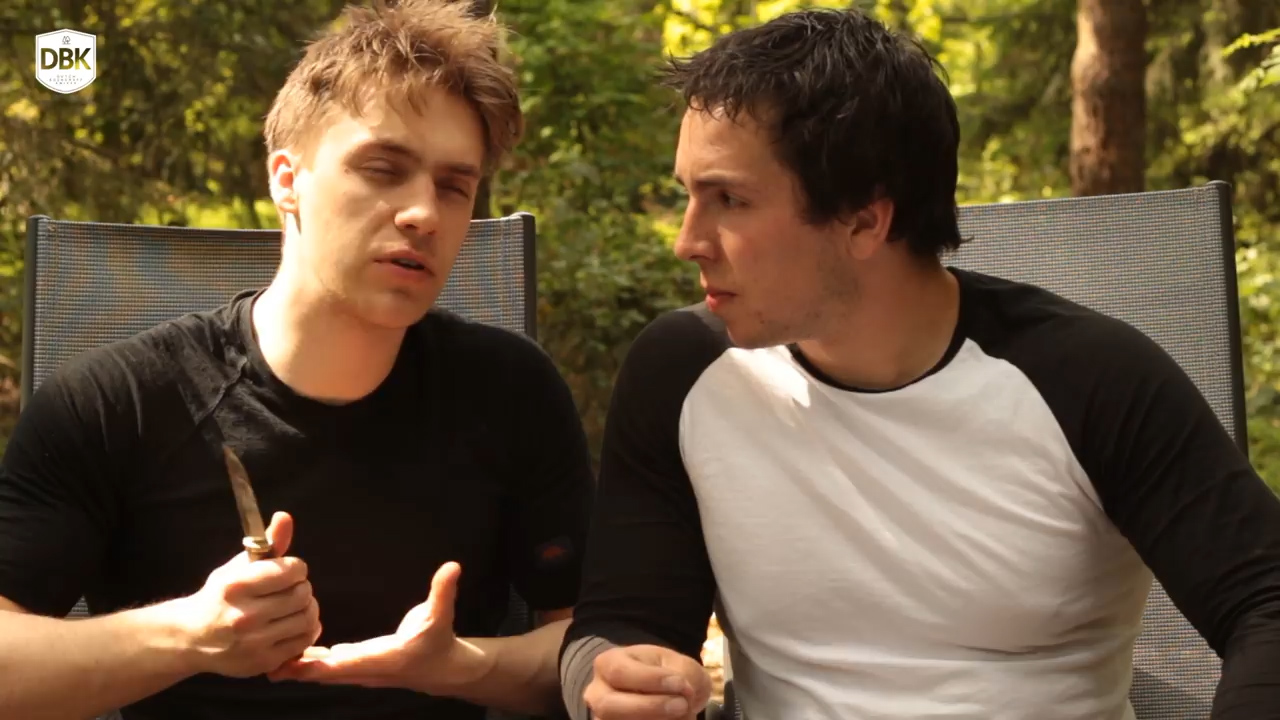knife: (179, 421, 329, 632)
